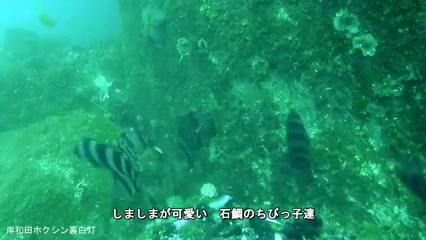ishidai: (70, 134, 138, 184)
